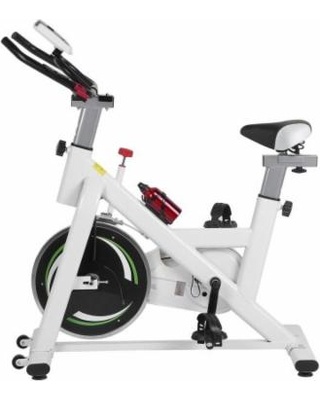gym_bike: (8, 32, 317, 376)
